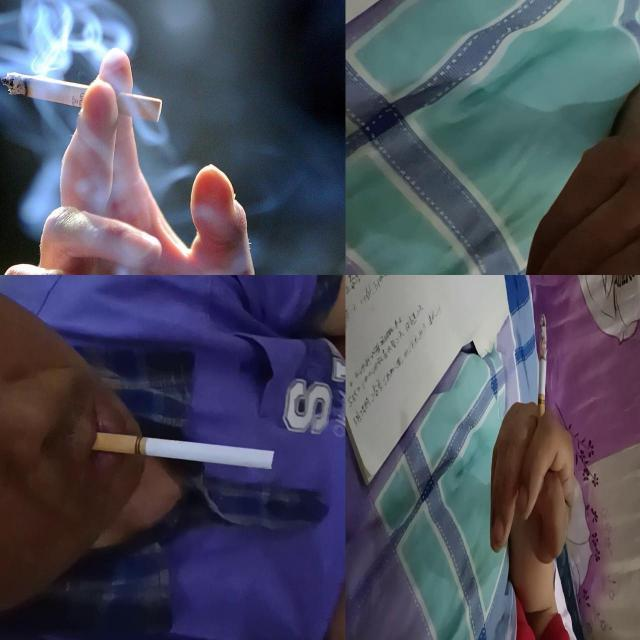cigarette: (1, 72, 163, 122), (94, 434, 278, 471), (536, 313, 546, 445)
